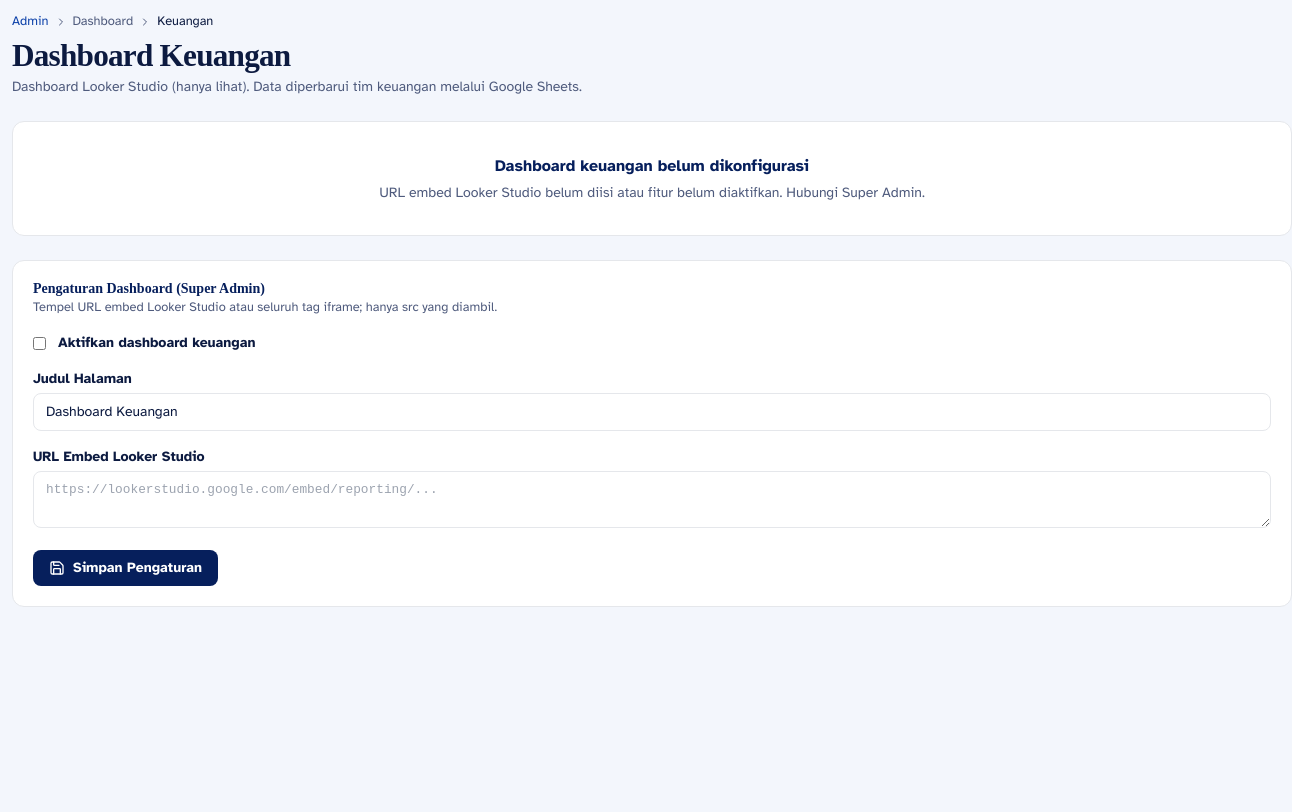
it: FinancePage › Super Admin (API mengirim config) › menolak URL tidak valid tanpa memanggil API
Check: the heading "Pengaturan Dashboard (Super Admin)" is shown, box [33,281,265,296]
Click the text box labelled "URL Embed Looker Studio": x=652, y=500 [33,471,1271,528]
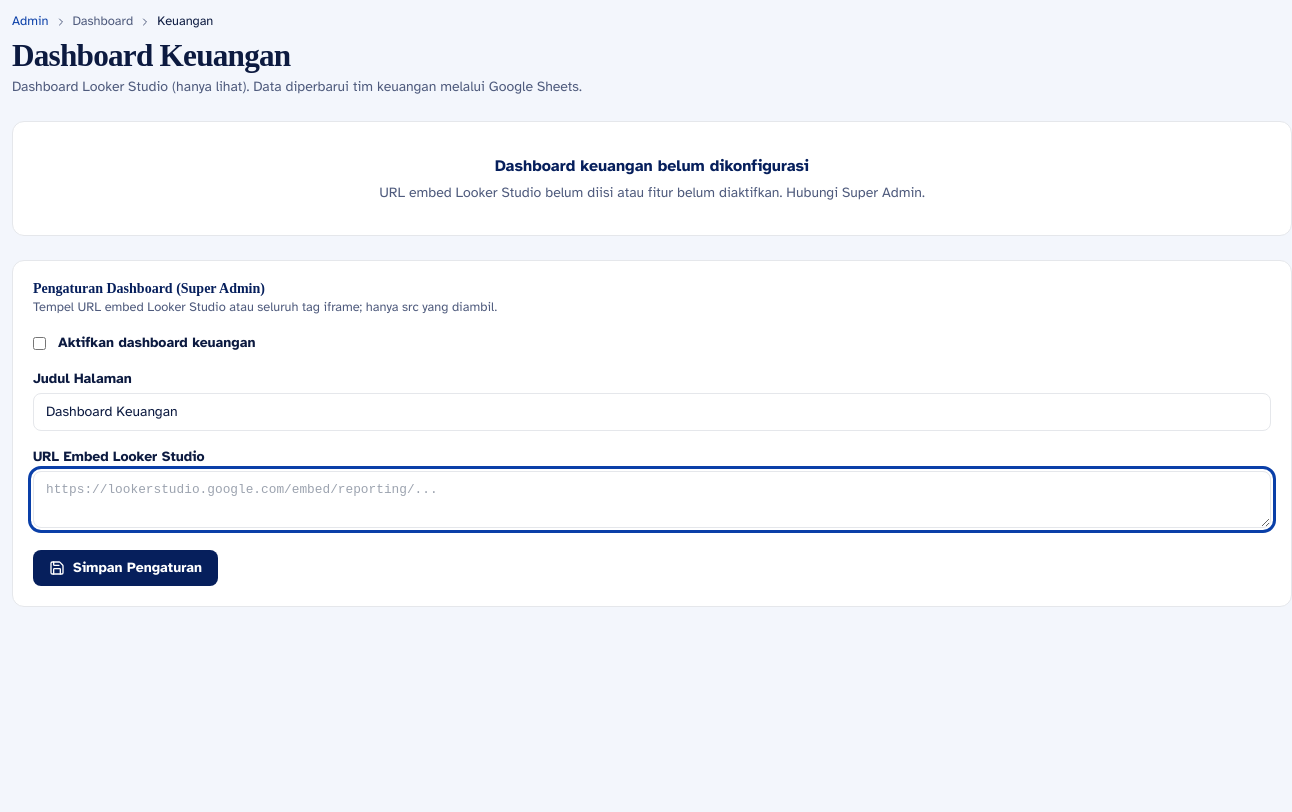
Type keys "https://evil.example.com/embed/reporting/abc"
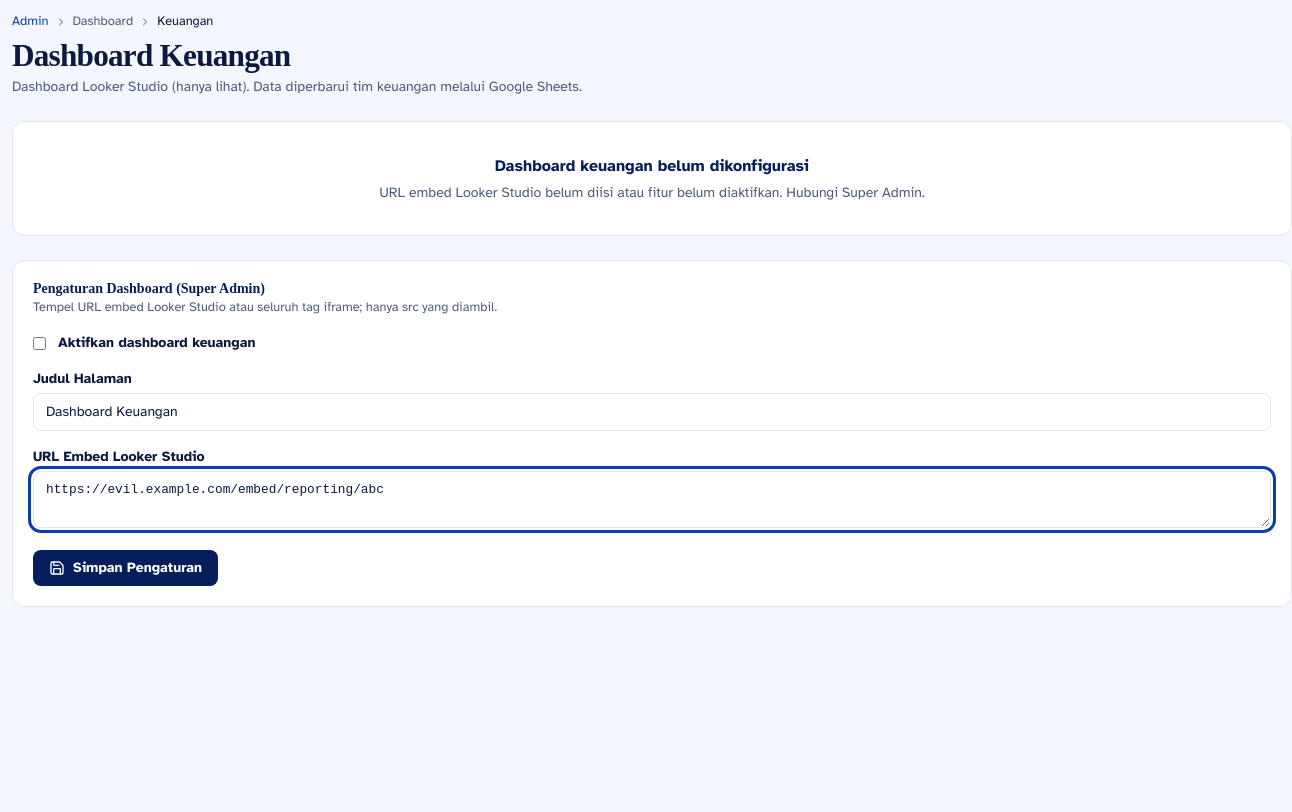
Click the button "Simpan Pengaturan": x=125, y=568 [33,550,218,586]
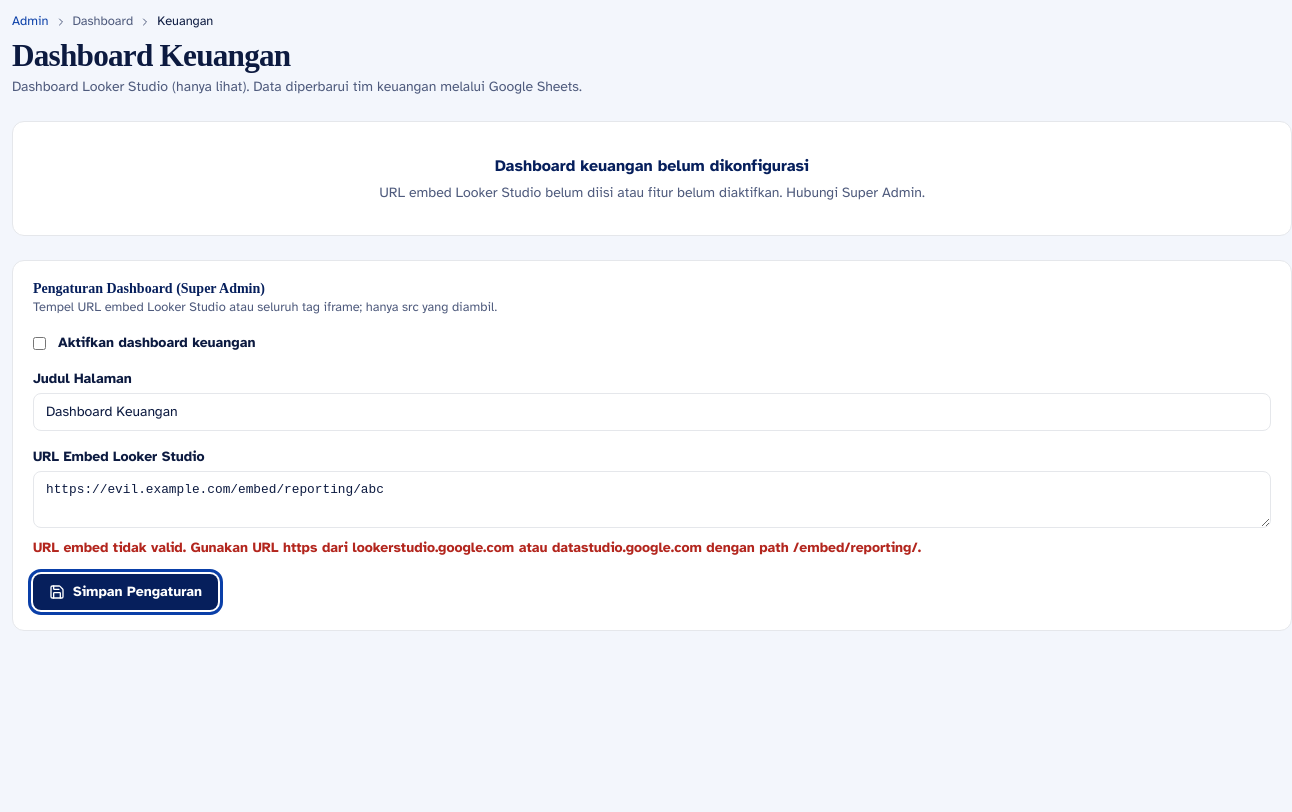
Check: the message shows "URL embed tidak valid", box [33,539,921,556]
